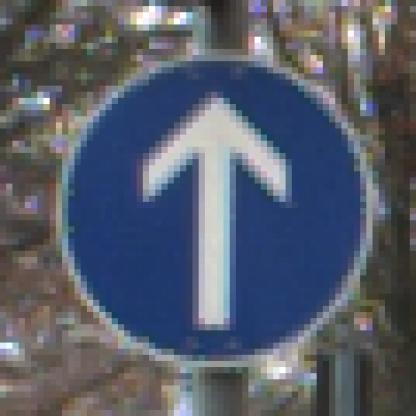AheadOnly: (38, 38, 380, 380)
